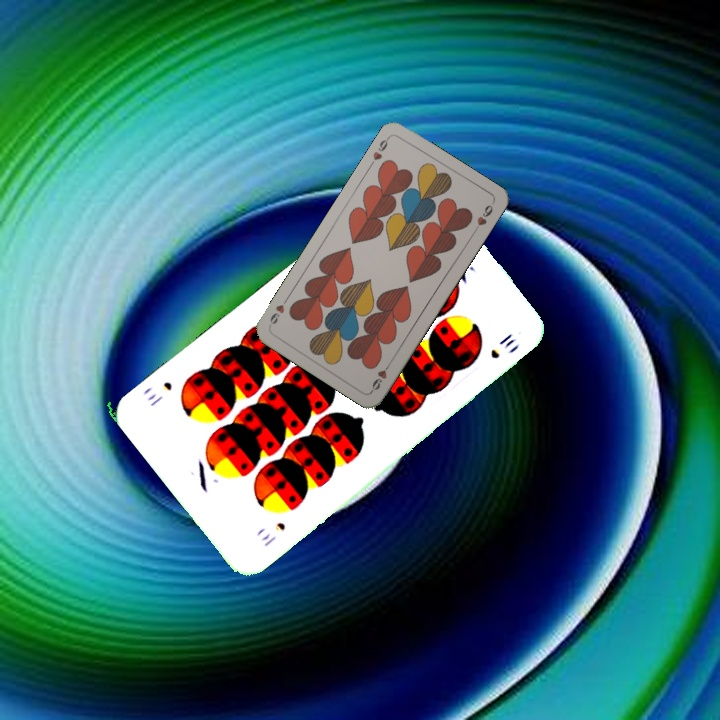H9: (367, 358, 394, 394), (365, 133, 392, 169)
S10: (257, 518, 288, 550)
